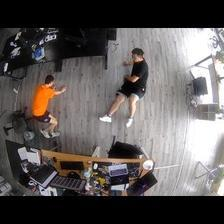fall: (100, 49, 147, 128), (32, 74, 64, 139)
